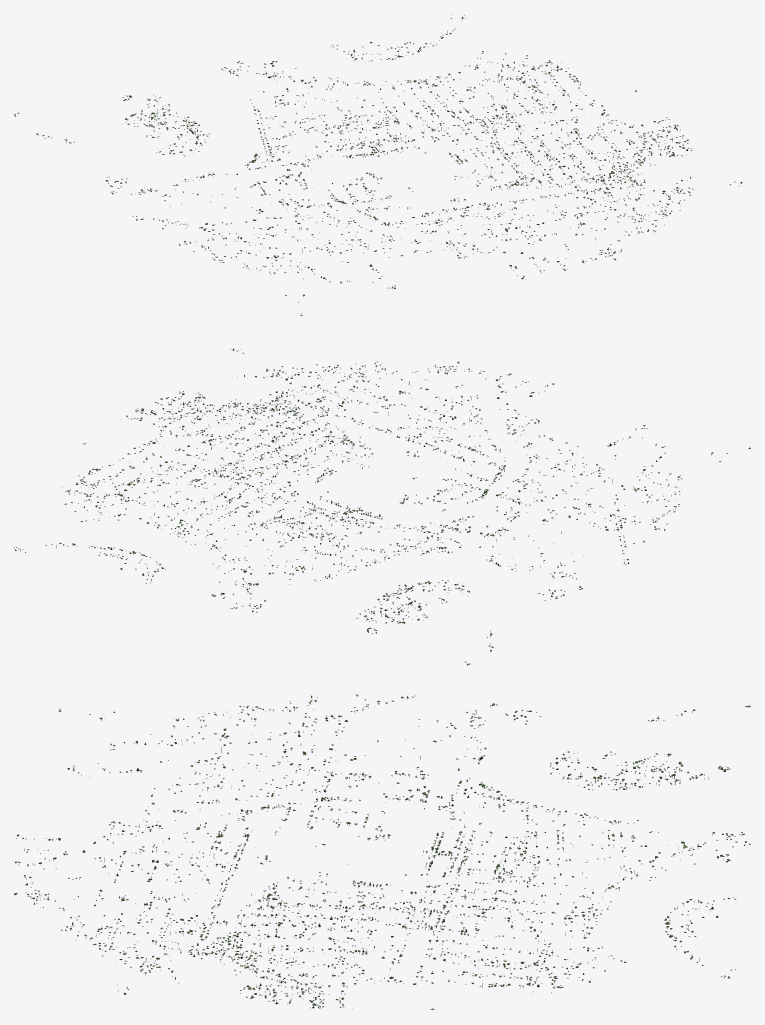
Rendered from gabba_backdrop_part2.glb.
The picture shows the model from 3 angles, top to bottom: view 1: azimuth 30°, elevation 25°; view 2: azimuth 150°, elevation 25°; view 3: azimuth 270°, elevation 25°; orthographic projection. The views are drawn at different scales.
Parts seen in each view (by area): view 1: bg_trees_joined_s11, bg_trees_joined_s12, bg_trees_joined_s10, bg_trees_joined_s14, bg_trees_joined_s08, bg_trees_joined_s13; view 2: bg_trees_joined_s11, bg_trees_joined_s12, bg_trees_joined_s10, bg_trees_joined_s14, bg_trees_joined_s08, bg_trees_joined_s13; view 3: bg_trees_joined_s11, bg_trees_joined_s12, bg_trees_joined_s10, bg_trees_joined_s14, bg_trees_joined_s08, bg_trees_joined_s13, bg_trees_joined_s15, bg_trees_joined_s05, bg_trees_joined_s09, bg_trees_joined_s03.
Part boxes in pixels (x1,y1,x2,y2): bg_trees_joined_s11: [531, 117, 742, 197]; bg_trees_joined_s12: [440, 51, 636, 134]; bg_trees_joined_s10: [476, 184, 684, 270]; bg_trees_joined_s14: [14, 61, 325, 149]; bg_trees_joined_s08: [162, 199, 361, 315]; bg_trees_joined_s13: [264, 14, 466, 111]; bg_trees_joined_s11: [120, 344, 332, 456]; bg_trees_joined_s12: [62, 439, 244, 521]; bg_trees_joined_s10: [292, 361, 511, 437]; bg_trees_joined_s14: [230, 547, 470, 665]; bg_trees_joined_s08: [505, 446, 750, 547]; bg_trees_joined_s13: [14, 508, 286, 598]; bg_trees_joined_s11: [105, 906, 382, 1010]; bg_trees_joined_s12: [383, 905, 626, 1009]; bg_trees_joined_s10: [14, 850, 250, 963]; bg_trees_joined_s14: [509, 705, 750, 852]; bg_trees_joined_s08: [59, 694, 380, 796]; bg_trees_joined_s13: [512, 852, 735, 978]; bg_trees_joined_s15: [385, 695, 695, 797]; bg_trees_joined_s05: [425, 851, 550, 902]; bg_trees_joined_s09: [16, 742, 246, 852]; bg_trees_joined_s03: [266, 880, 382, 921].
Bounding box in the file's own units: 2989 × 62.22 × 3003.
Materials: 1 (1 with a texture image).
